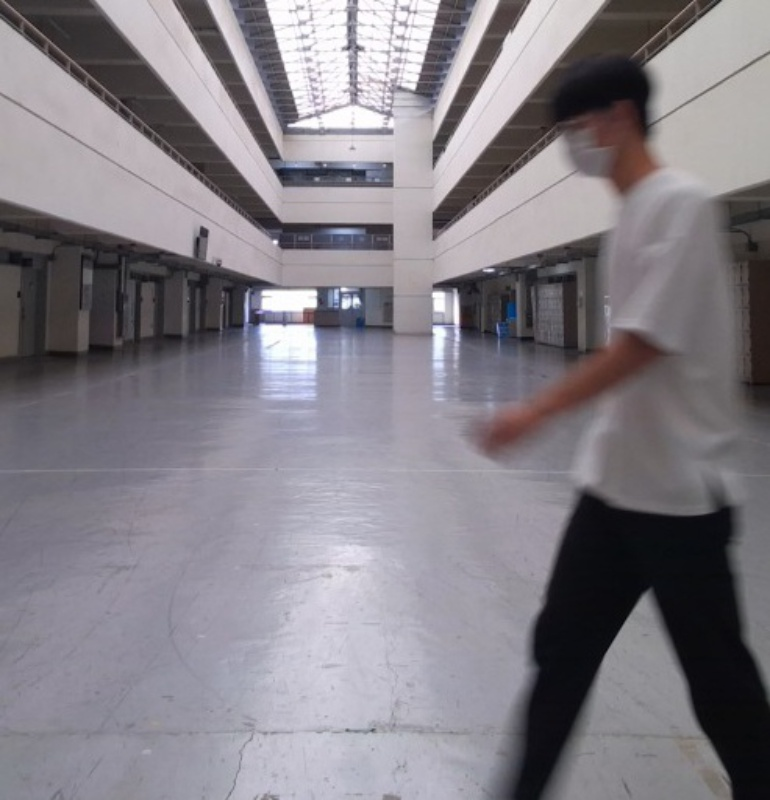person: (459, 52, 770, 800)
